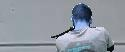blood: (49, 27, 74, 40)
